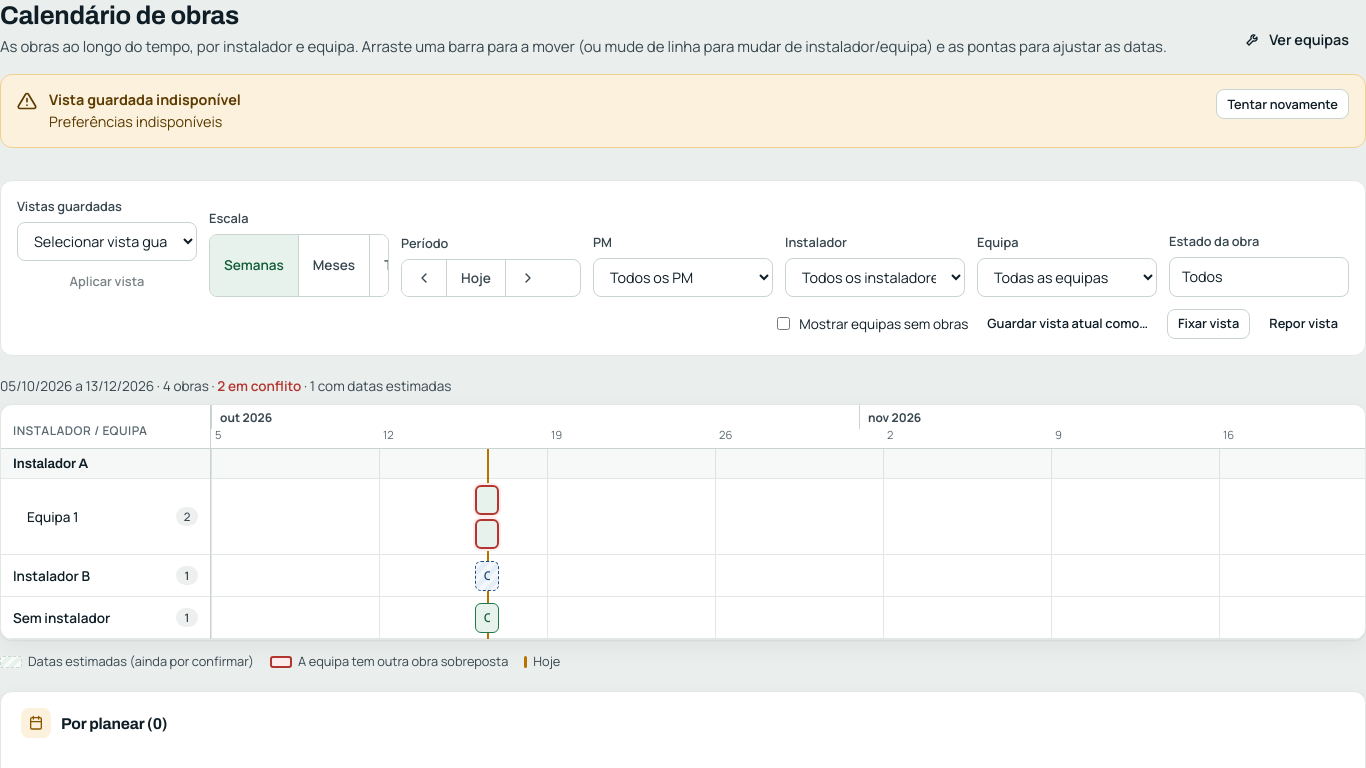
Works (calendário de obras) › aplica uma vista nomeada, atualiza filtros e recarrega sem perder a data escolhida
The image size is (1366, 768).
Select "A minha equipa" in the dropdown labelled "Vistas guardadas": coordinates (107, 241) left=17, top=222, right=197, bottom=261
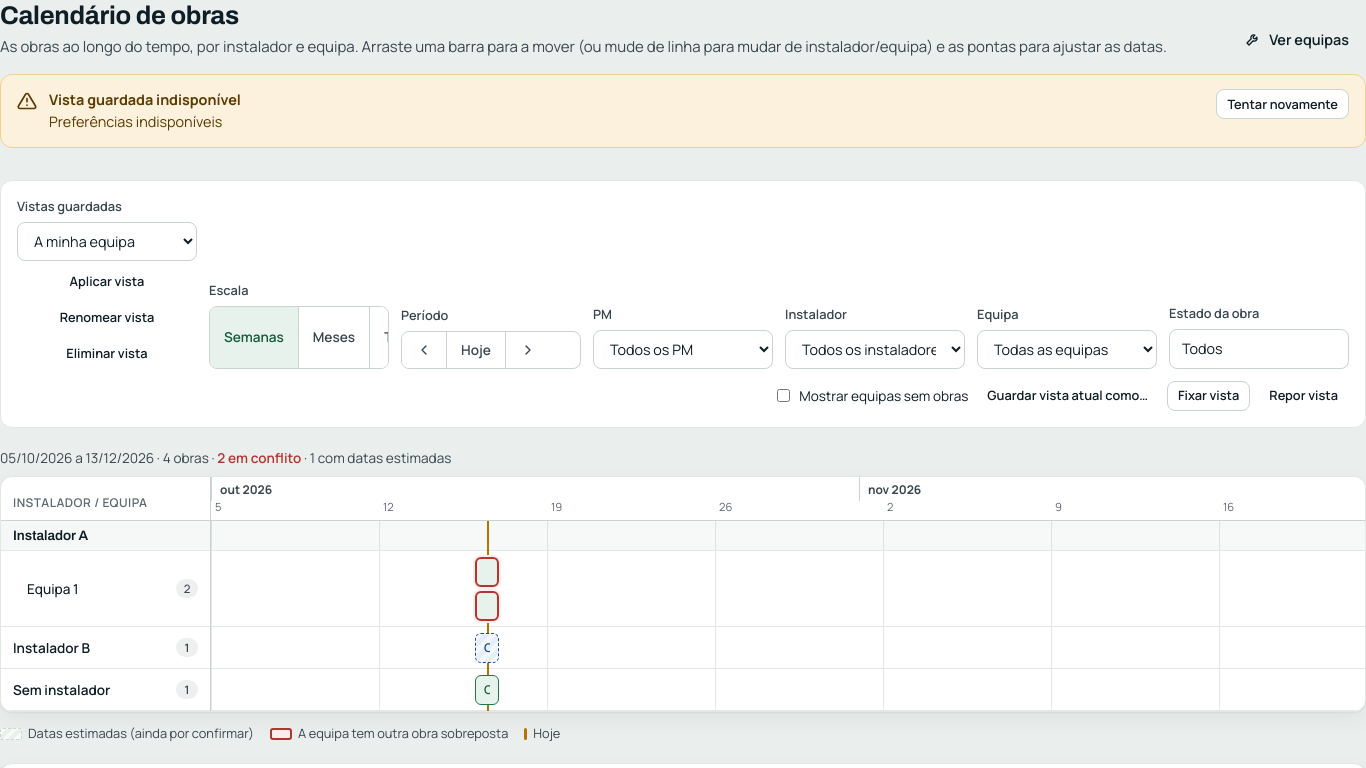
Click the button "Aplicar vista": coordinates (107, 282) left=17, top=267, right=197, bottom=297
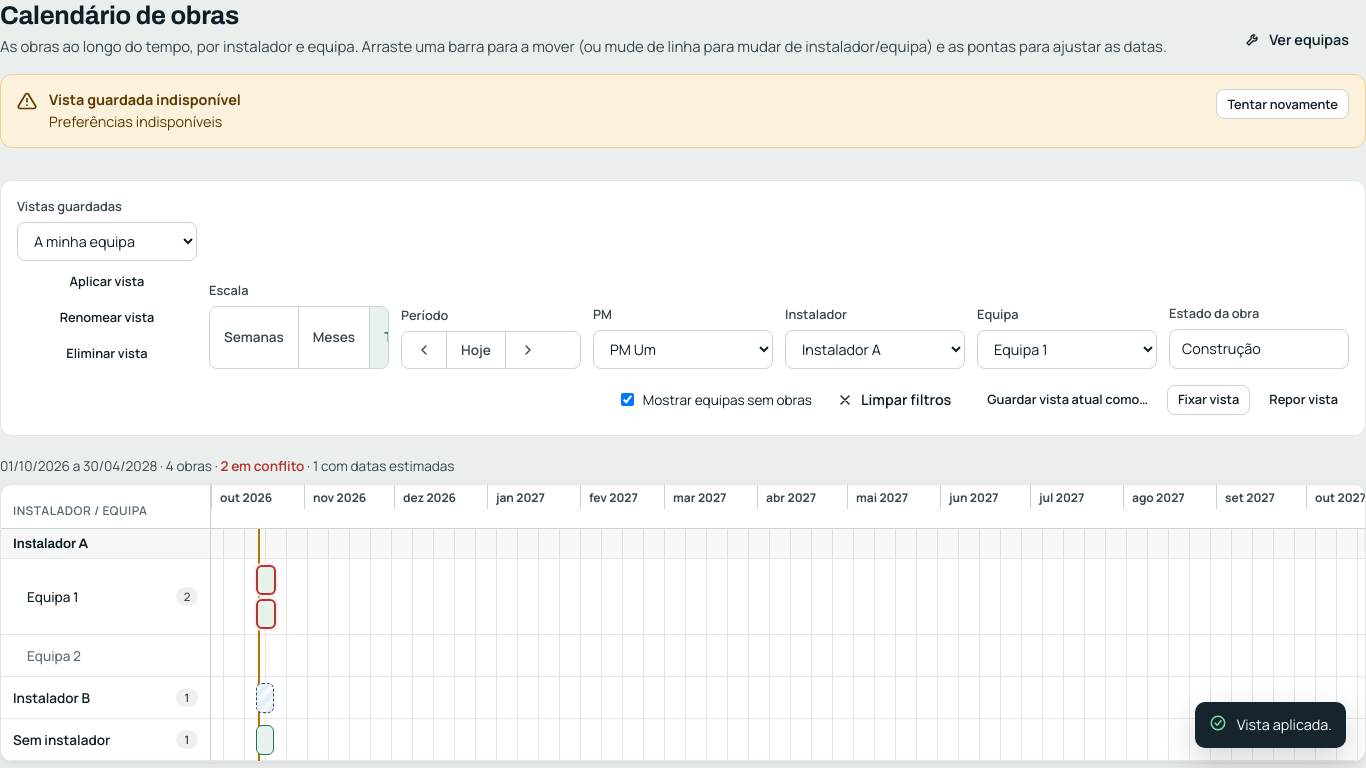
Expected: the dropdown labelled "PM" shows "PM Um", left=593, top=330, right=773, bottom=369
Expected: the checkbox labelled "Mostrar equipas sem obras" is checked, left=621, top=393, right=634, bottom=406
